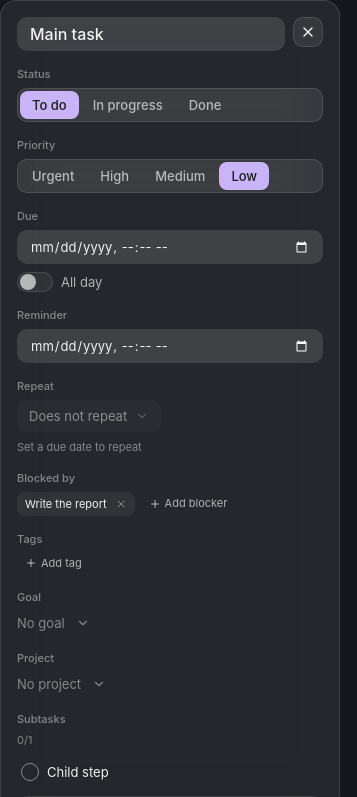
TaskDetailPanel: blocked by › does not offer the task itself, its subtasks or its current blockers
Expected: the field named "Title" is shown, [17,17,285,51]
Click the button "Add blocker": (188, 504) [141,494,235,514]
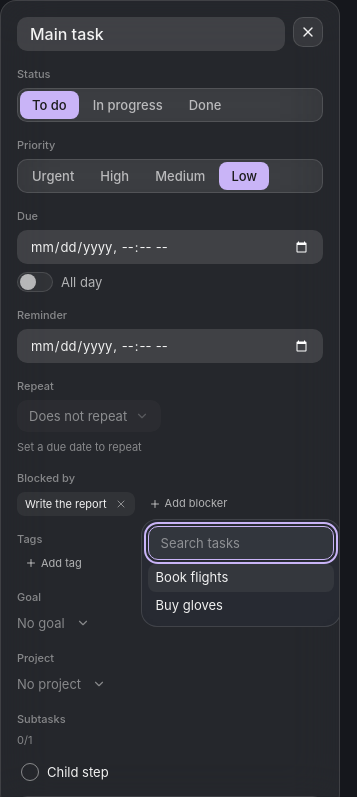
Expected: the field labelled "Search tasks" is shown, [148,526,334,560]
Expected: the menu item "Book flights" is shown, [148,564,334,592]
Expected: the menu items read "Book flights", "Buy gloves", in this order, [148,564,334,592]; [148,592,334,620]
